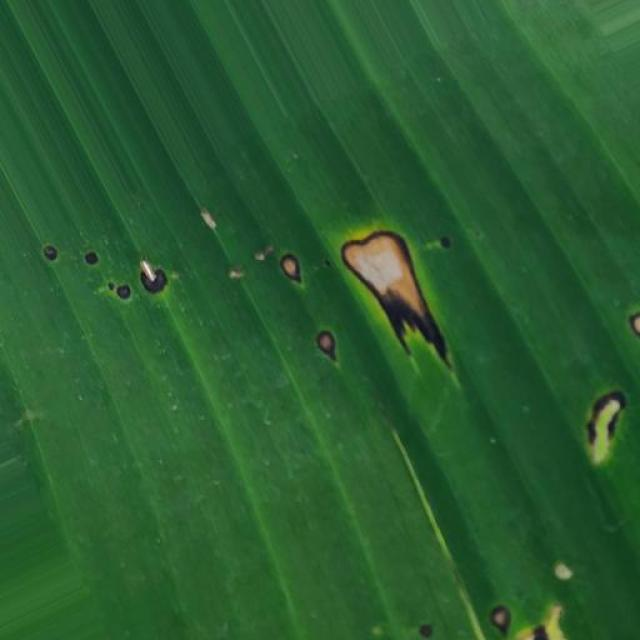Early_rust: (26, 208, 481, 442), (555, 281, 640, 481), (394, 564, 612, 640)
